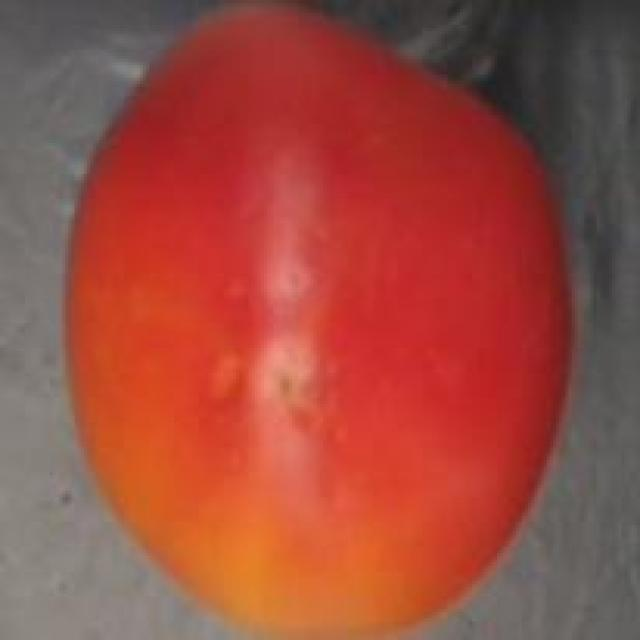overripe tomato: (50, 3, 587, 640)
